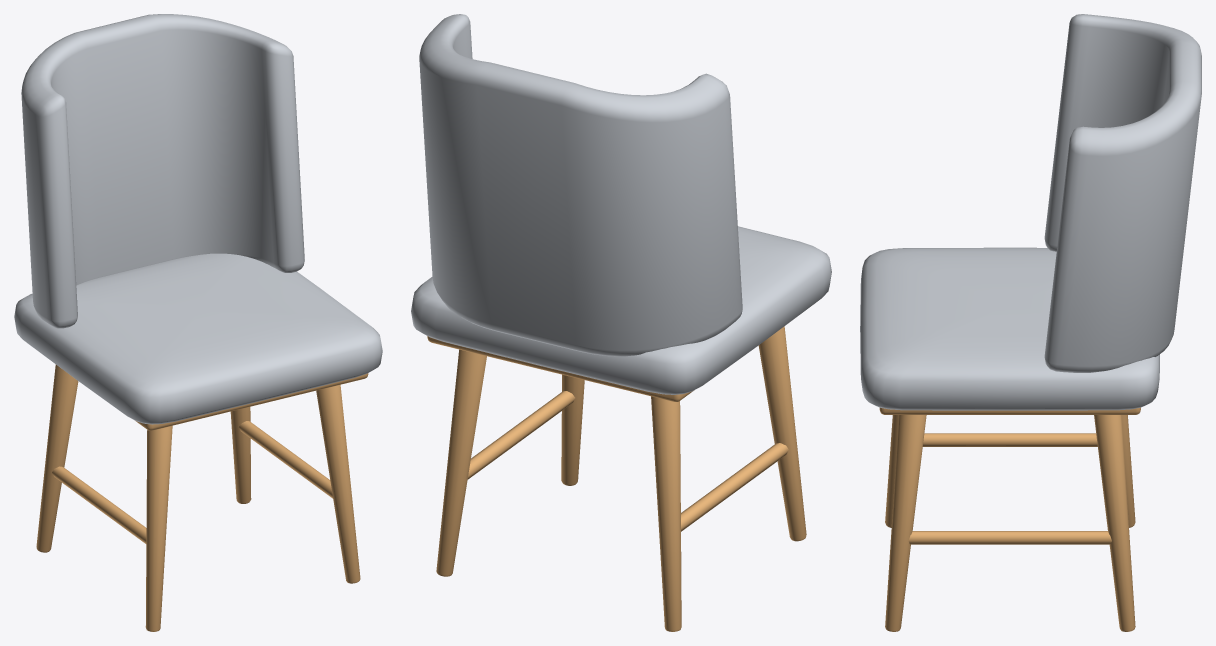
The model's file is cadeira_jantar_estofada_cinza.glb.
3 views of the same model, side by side, from view 1: azimuth 30°, elevation 25°; view 2: azimuth 150°, elevation 25°; view 3: azimuth 270°, elevation 25° (orthographic). The views are drawn at different scales.
Parts seen in each view (by area): view 1: cadeira_jantar_estofada_cinza; view 2: cadeira_jantar_estofada_cinza; view 3: cadeira_jantar_estofada_cinza.
Part boxes in pixels (<box>): cadeira_jantar_estofada_cinza: <box>14,14,382,631</box>; cadeira_jantar_estofada_cinza: <box>411,14,831,631</box>; cadeira_jantar_estofada_cinza: <box>860,14,1201,631</box>.
Bounding box in the file's own units: 0.48 × 0.8723 × 0.5233.
Materials: 1 (1 with a texture image).
